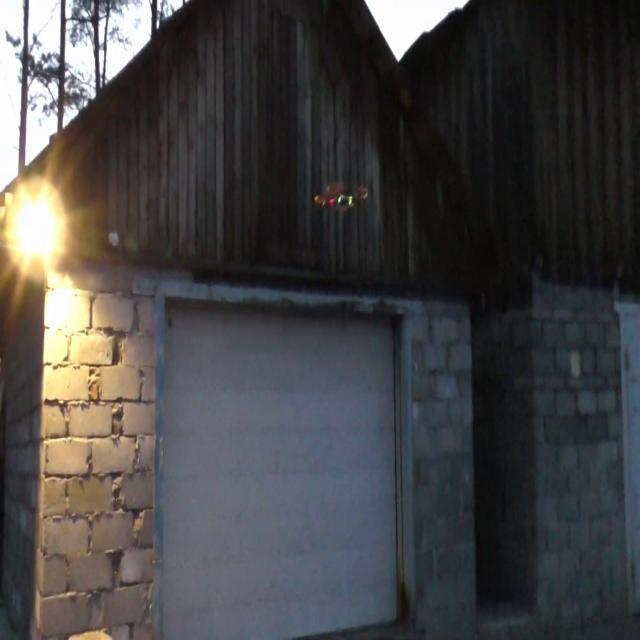Drons: (310, 180, 372, 214)
